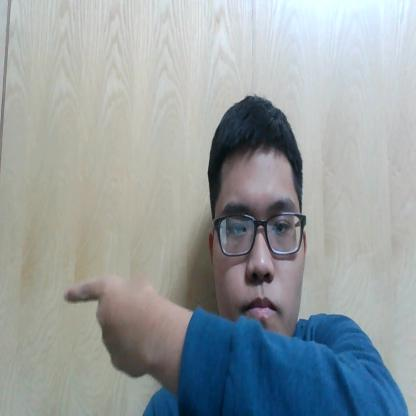right: (57, 262, 173, 391)
